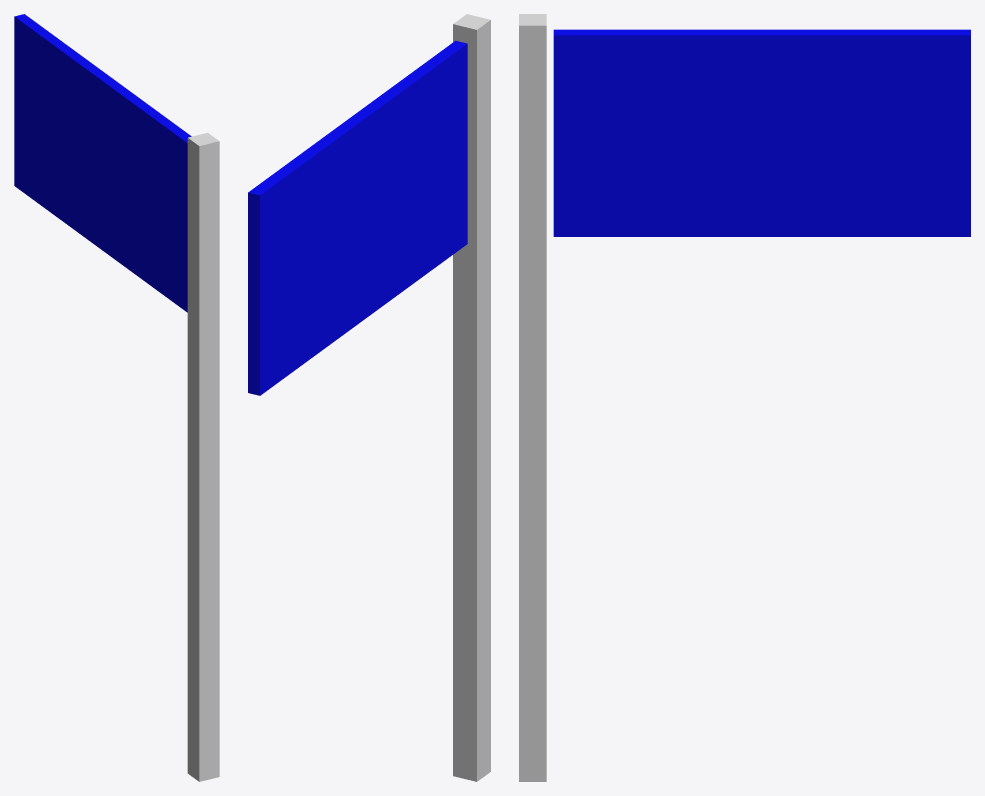
The model's file is flag_Blue.fbx.
The picture shows the model from 3 angles, left to right: view 1: azimuth 30°, elevation 25°; view 2: azimuth 150°, elevation 25°; view 3: azimuth 270°, elevation 25°; orthographic projection. The views are drawn at different scales.
Parts seen in each view (by area): view 1: Cube.001, Cube.002; view 2: Cube.001, Cube.002; view 3: Cube.001, Cube.002.
Part boxes in pixels (left/top/right/bottom): Cube.001: left=14, top=14, right=191, bottom=312; Cube.002: left=187, top=132, right=219, bottom=781; Cube.001: left=248, top=40, right=467, bottom=395; Cube.002: left=453, top=14, right=490, bottom=781; Cube.001: left=553, top=29, right=970, bottom=236; Cube.002: left=519, top=14, right=546, bottom=781.
Size of the model in its own units: 20 by 600 by 325.
